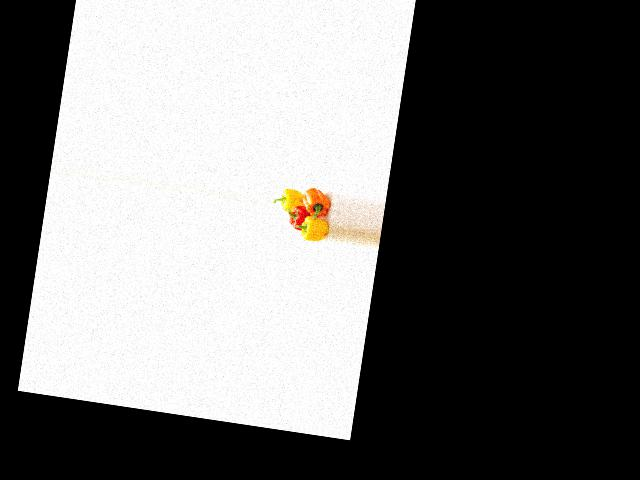bell_pepper: (295, 207, 331, 244)
